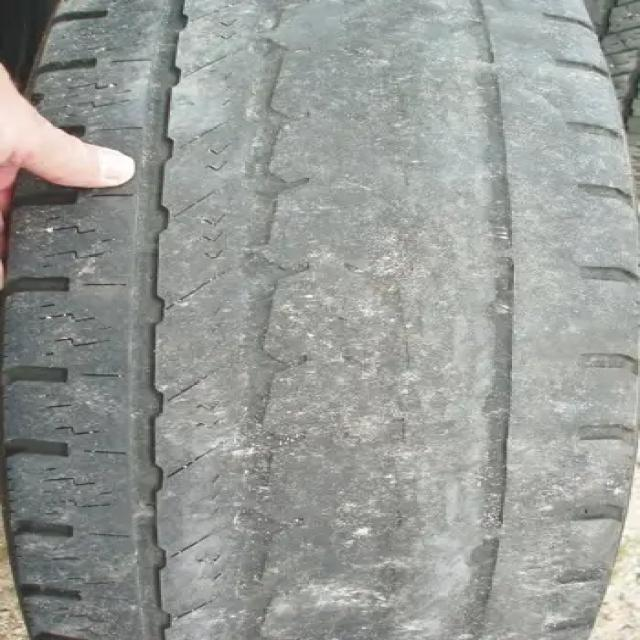Flat spots: (143, 0, 544, 639)
